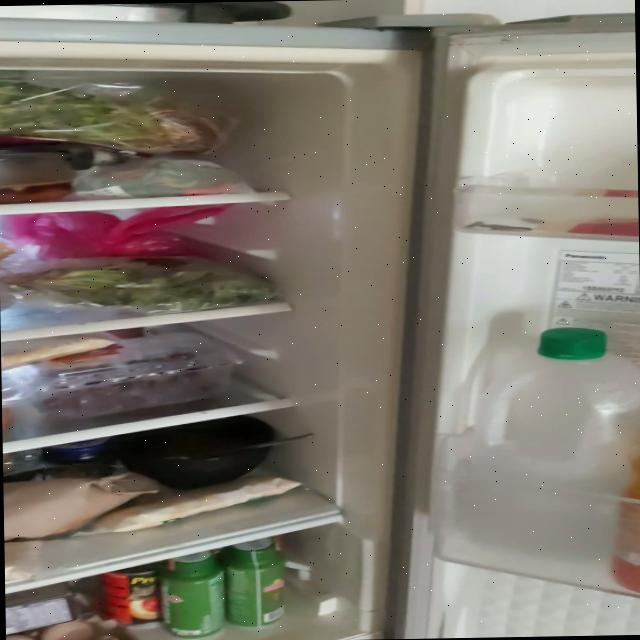leafy_greens: (0, 75, 227, 156), (0, 256, 279, 314)
tempeh: (90, 474, 302, 530)
unknown_bag: (0, 202, 235, 259)
